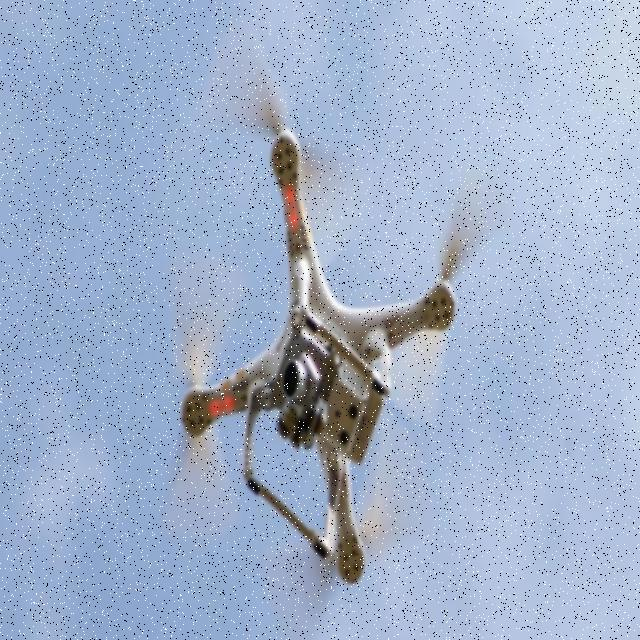UAV: (179, 122, 457, 588)
